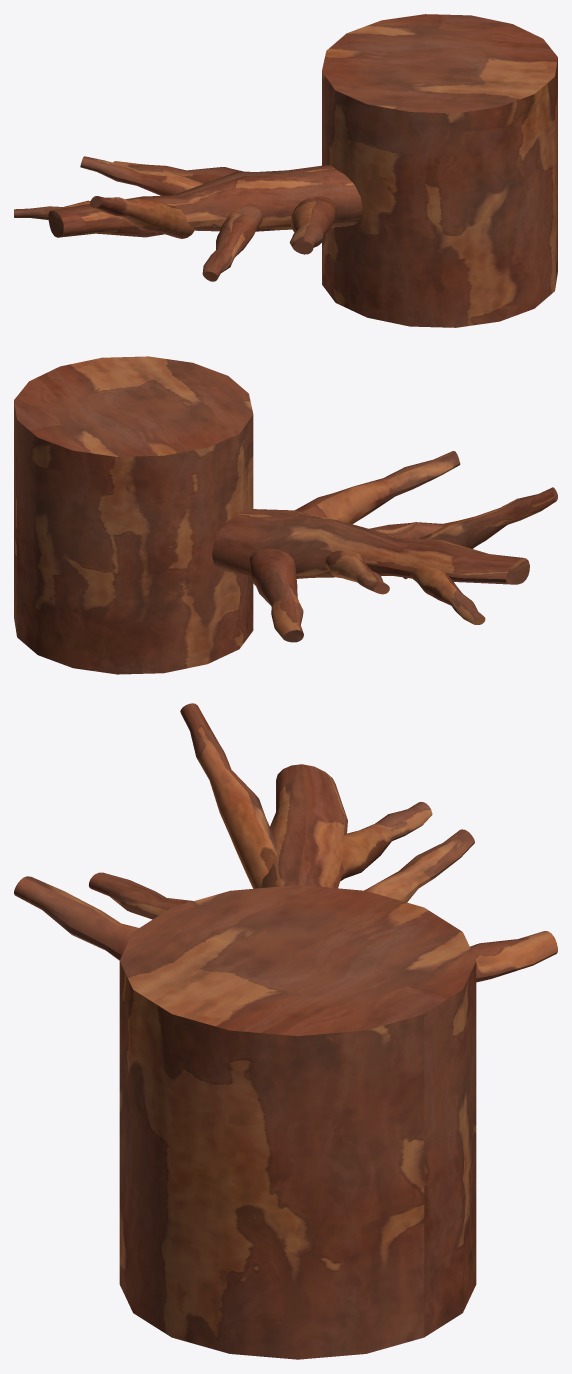
File: OneBranchTrunk.fbx
3 views of the same model, one above another, from view 1: azimuth 30°, elevation 25°; view 2: azimuth 150°, elevation 25°; view 3: azimuth 270°, elevation 25° (orthographic). The views are drawn at different scales.
Visible parts, largest first — view 1: UnRamo; view 2: UnRamo; view 3: UnRamo.
Boxes of the visible parts, bbox=[...] form: UnRamo: bbox=[14, 14, 557, 327]; UnRamo: bbox=[14, 356, 557, 674]; UnRamo: bbox=[14, 703, 557, 1359].
Bounding box in the file's own units: 478 × 200 × 305.
